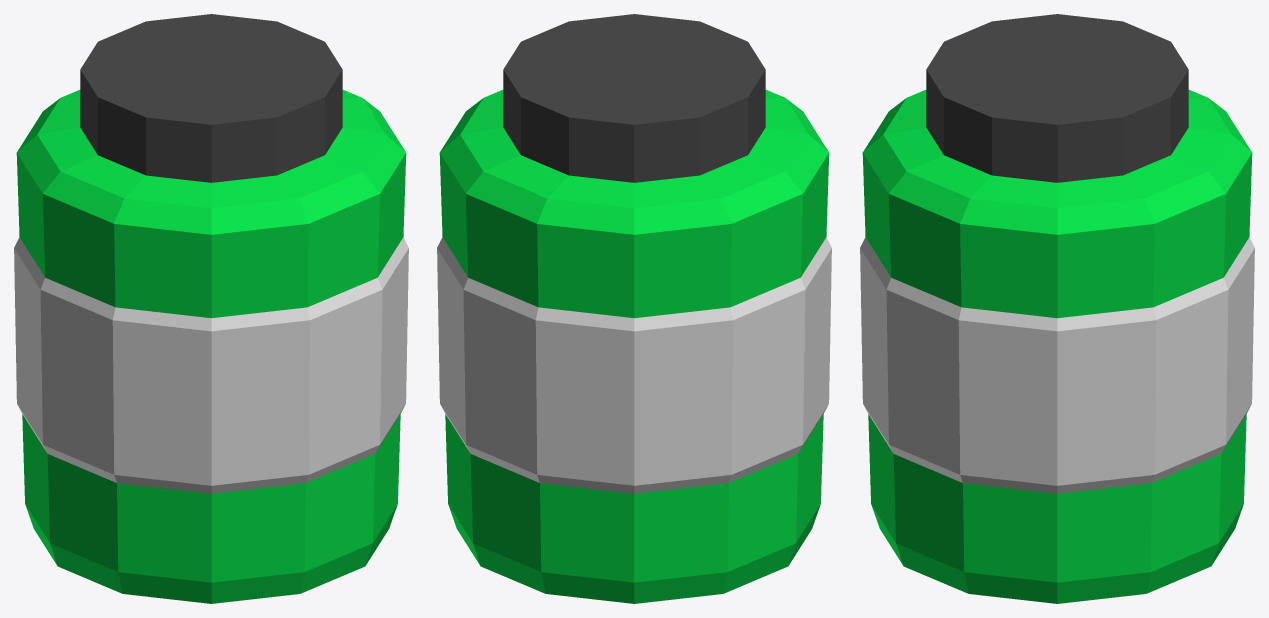
File: bottle 1.fbx
3 renders of one model, left to right at view 1: azimuth 30°, elevation 25°; view 2: azimuth 150°, elevation 25°; view 3: azimuth 270°, elevation 25°, orthographic.
Visible parts, largest first — view 1: protein; view 2: protein; view 3: protein.
Part boxes in pixels (x1,y1,x2,y2): protein: [14, 14, 408, 603]; protein: [437, 14, 831, 603]; protein: [860, 14, 1254, 603].
Bounding box in the file's own units: 181 × 233 × 181.
